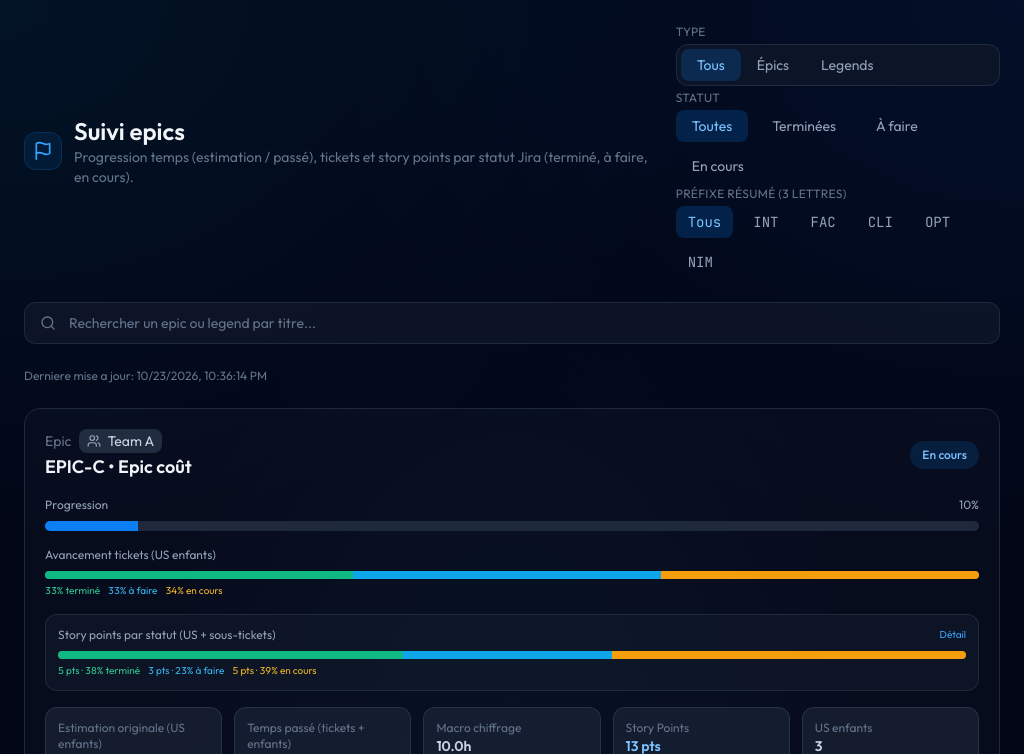
Test case: EpicProgressPage › tuile « Coût du projet » › affiche le coût total quand l'utilisateur a accès aux coûts
Click the button that starts with "Epic": (512, 514) top-left (45, 429), bottom-right (979, 598)
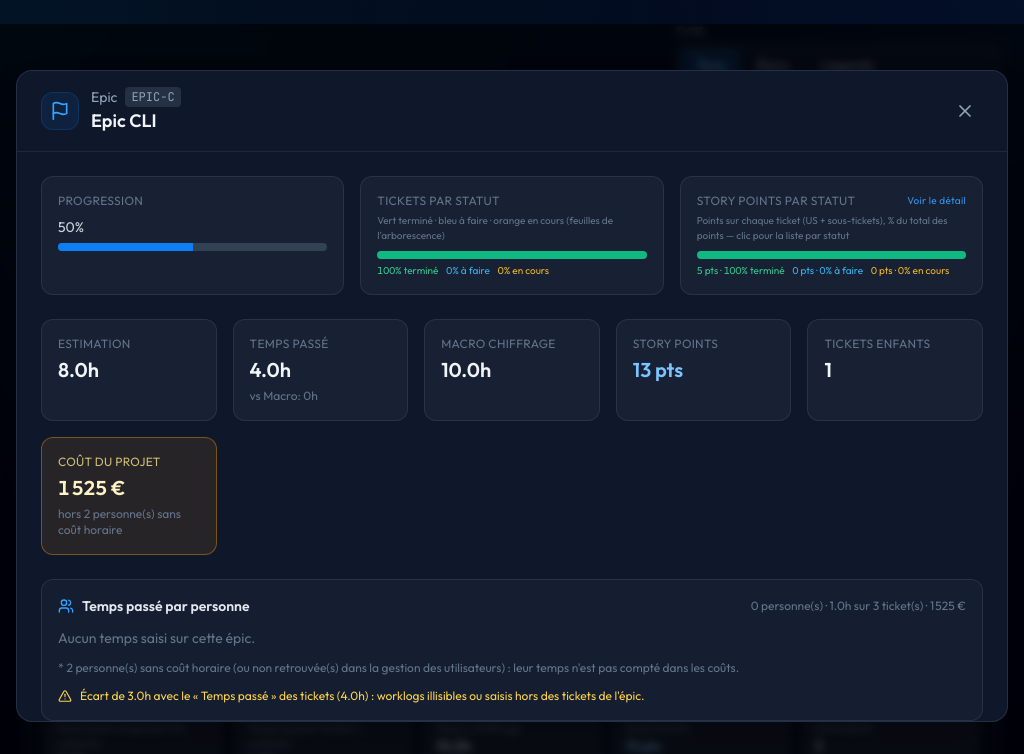
Expected: the text "Tickets enfants" is shown, top-left (824, 336), bottom-right (930, 351)
